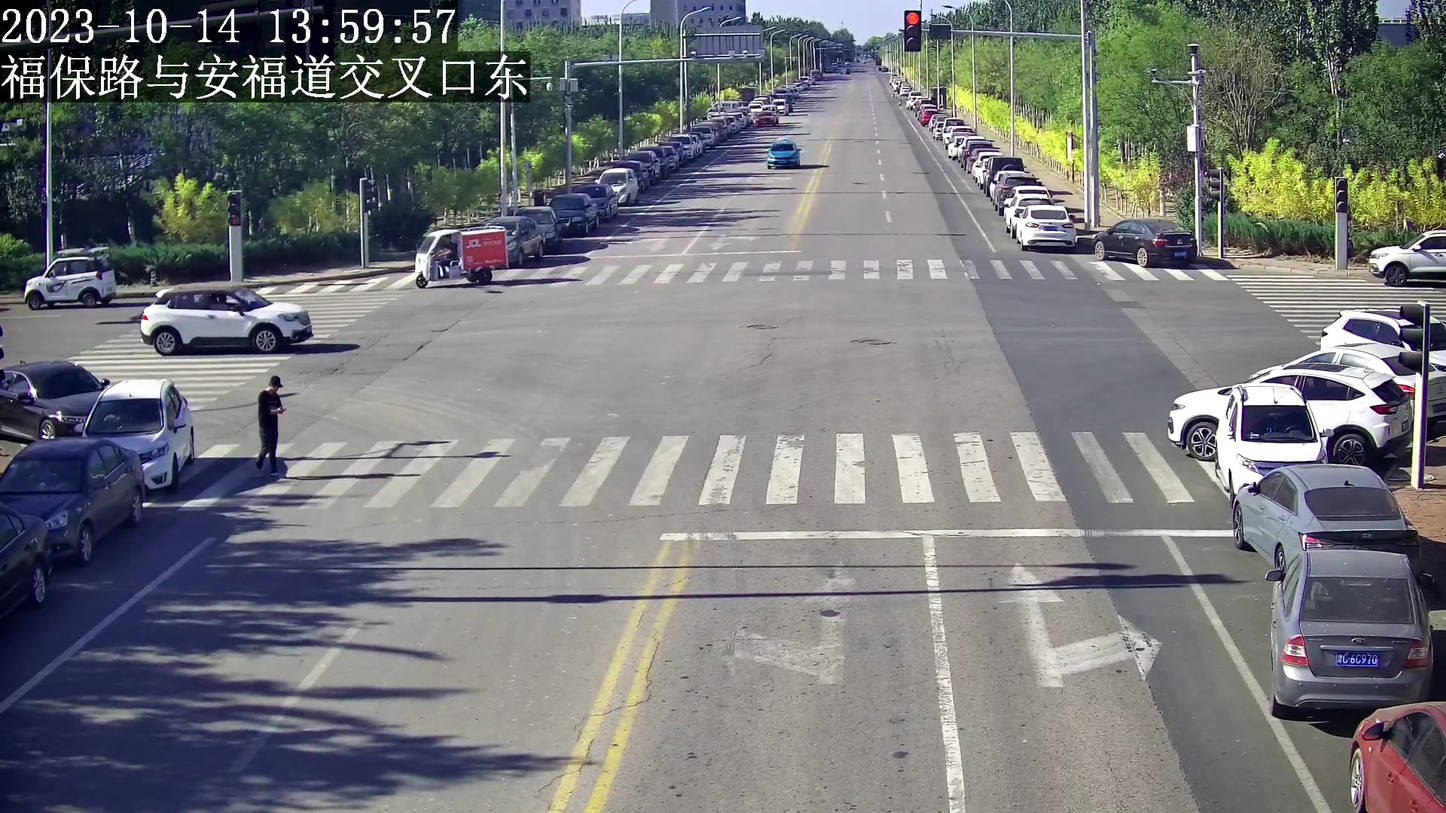person: (254, 370, 286, 480)
vehicle: (1264, 547, 1435, 711), (1228, 462, 1426, 571), (0, 434, 145, 565), (78, 376, 199, 492), (1213, 379, 1329, 496), (1337, 695, 1446, 813), (135, 285, 312, 350), (0, 358, 108, 437), (415, 226, 505, 290), (1092, 213, 1194, 266), (1367, 226, 1446, 285), (47, 251, 119, 306), (484, 215, 542, 265), (1017, 202, 1077, 248), (766, 139, 801, 170)
